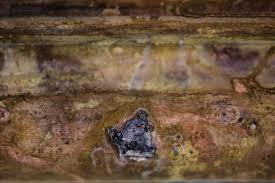rust: (3, 3, 273, 180)
